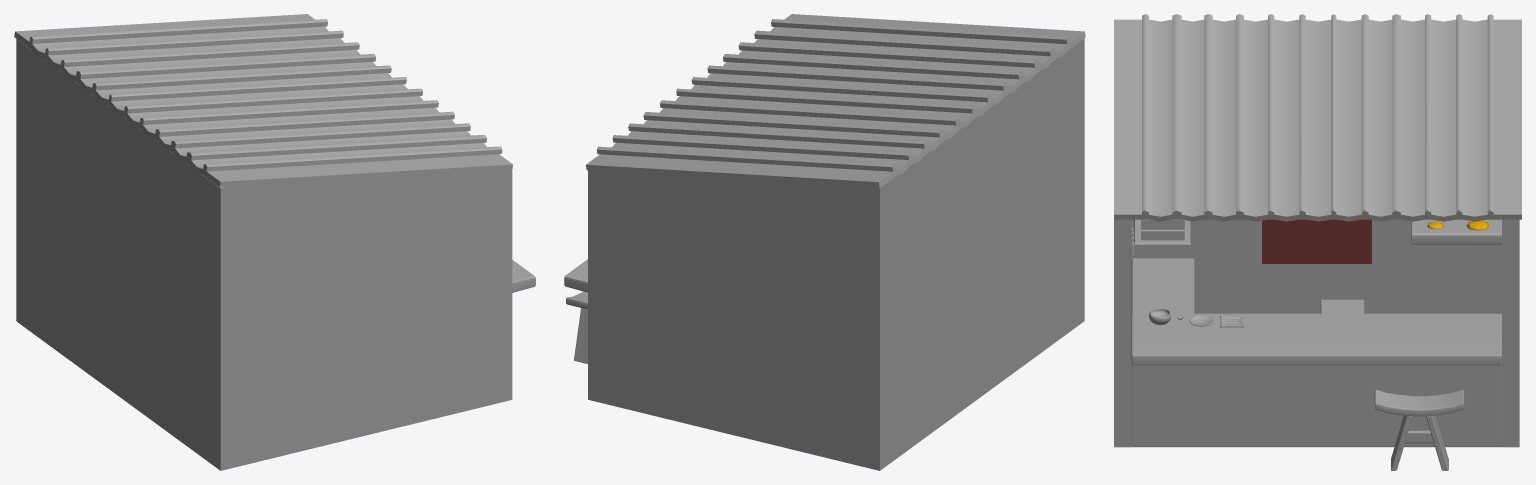
Rendered from Booth.fbx.
3 views of the same model, side by side, from view 1: azimuth 30°, elevation 25°; view 2: azimuth 150°, elevation 25°; view 3: azimuth 270°, elevation 25° (orthographic).
Parts seen in each view (by area): view 1: wallL, wallB, roof; view 2: wallR, wallB, roof, legR; view 3: roof, Counter, wallB, stove, Sign_Hanging, wallR, wallL, Building_Station, Bins, seat, Table_small, legR (+1 smaller).
Boxes of the visible parts, <box> form: wallL: <box>236,170,512,466</box>; wallB: <box>16,39,235,470</box>; roof: <box>14,14,512,187</box>; wallR: <box>588,170,864,466</box>; wallB: <box>864,38,1084,470</box>; roof: <box>586,14,1085,187</box>; legR: <box>574,308,587,363</box>; roof: <box>1114,14,1521,221</box>; Counter: <box>1131,313,1502,446</box>; wallB: <box>1131,219,1411,313</box>; stove: <box>1411,219,1502,314</box>; Sign_Hanging: <box>1262,219,1371,263</box>; wallR: <box>1502,219,1519,447</box>; wallL: <box>1114,219,1131,447</box>; Building_Station: <box>1131,258,1194,314</box>; Bins: <box>1134,219,1190,258</box>; seat: <box>1374,390,1464,416</box>; Table_small: <box>1320,299,1364,313</box>; legR: <box>1426,415,1448,470</box>.
Size of the model in its own units: 6.26 by 5.14 by 6.49.
